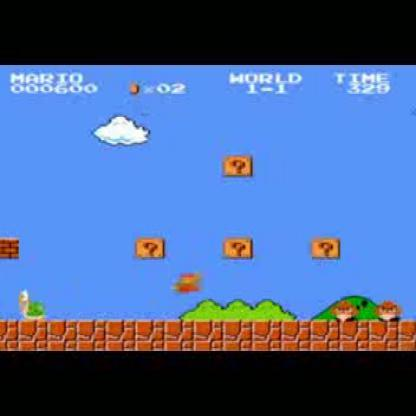Goomba: (329, 295, 362, 321), (374, 295, 405, 321)
Tortuga: (14, 286, 51, 322)
